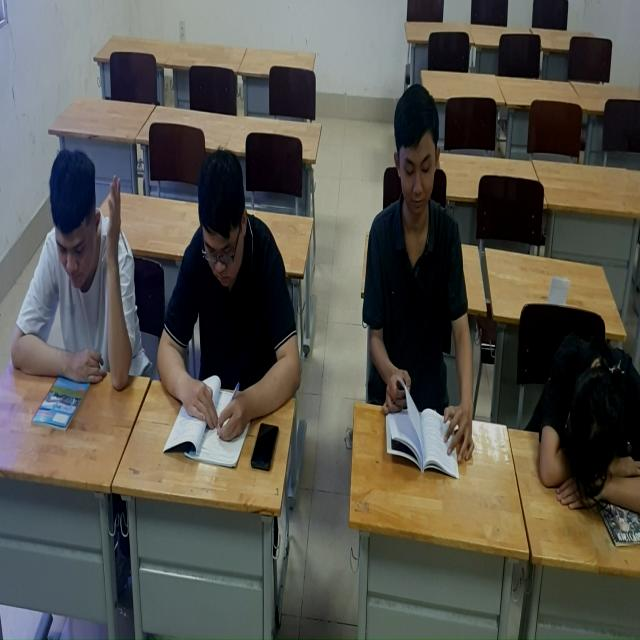raise_hand: (2, 139, 143, 453)
read: (353, 68, 475, 471), (151, 140, 297, 467)
sleep: (541, 295, 640, 524)
